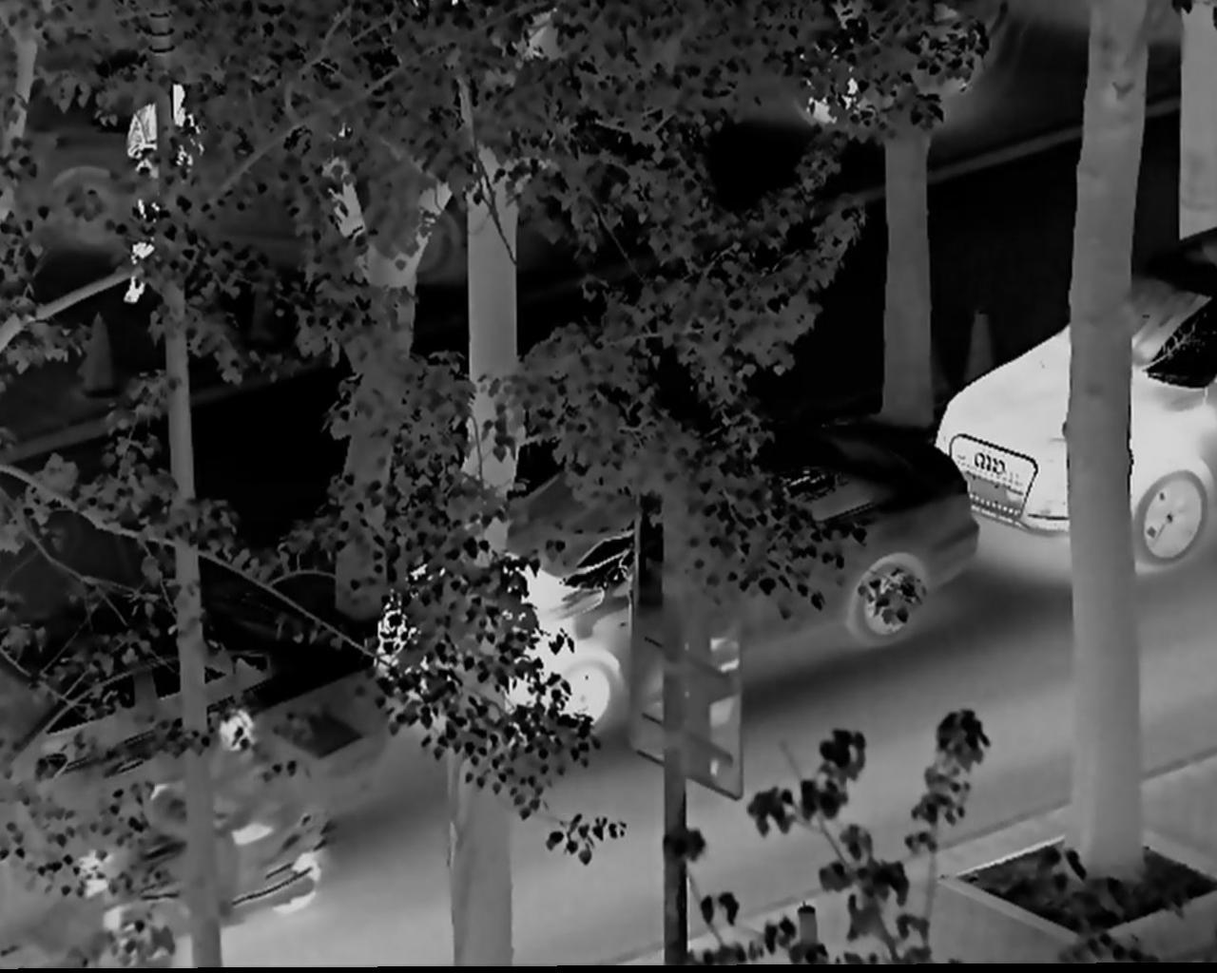person: (125, 77, 203, 304)
